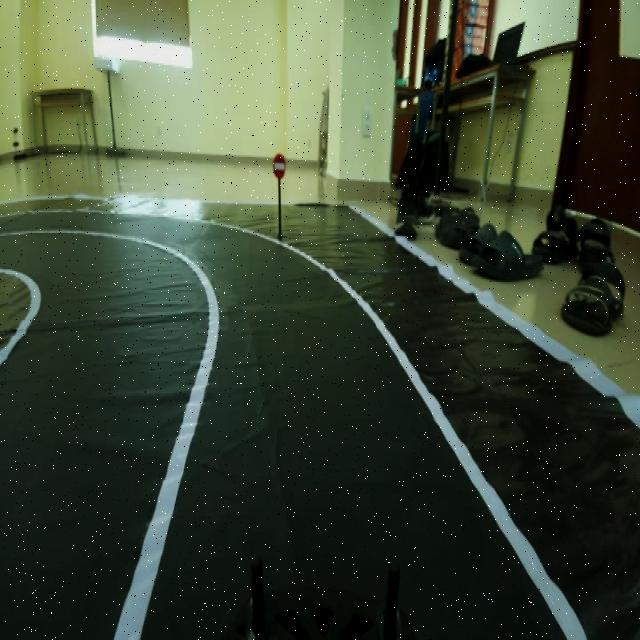no_entry: (266, 144, 288, 181)
